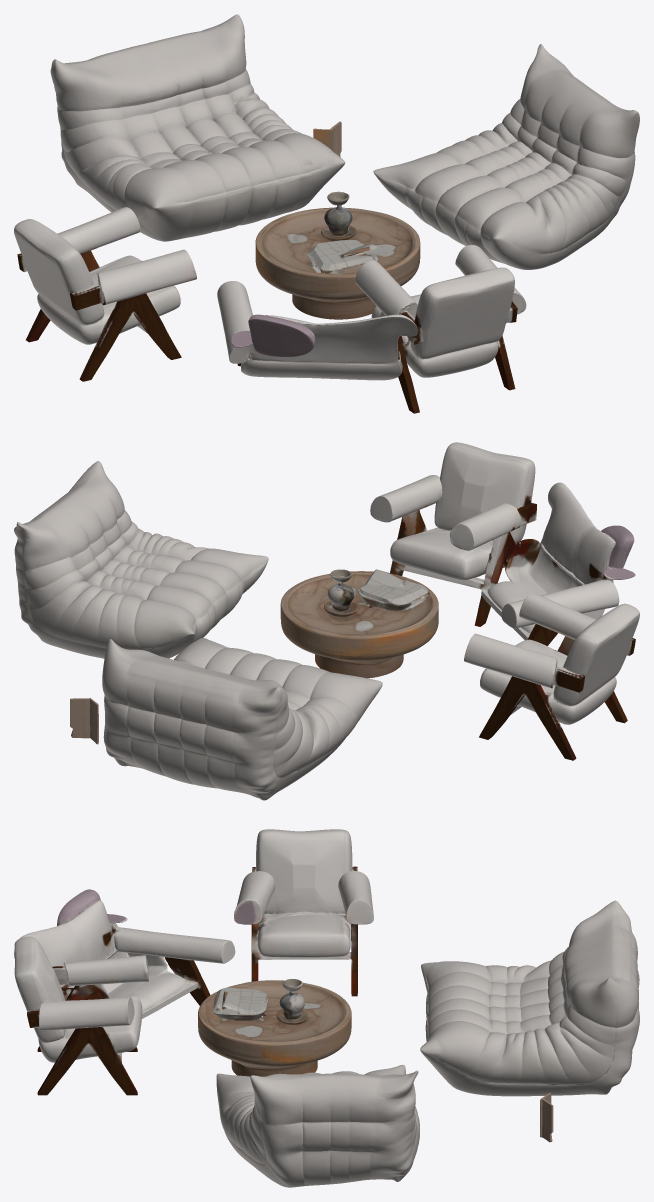
Rendered from makranaMarble.glb.
The picture shows the model from 3 angles, top to bottom: view 1: azimuth 30°, elevation 25°; view 2: azimuth 150°, elevation 25°; view 3: azimuth 270°, elevation 25°; orthographic projection. The views are drawn at different scales.
Visible parts, largest first — view 1: tripo_node_2cc41b71-63ca-4fe3-bc7d-5c8464eba4a7; view 2: tripo_node_2cc41b71-63ca-4fe3-bc7d-5c8464eba4a7; view 3: tripo_node_2cc41b71-63ca-4fe3-bc7d-5c8464eba4a7.
Boxes of the visible parts, box(x1,y1,x2,y2) form: tripo_node_2cc41b71-63ca-4fe3-bc7d-5c8464eba4a7: box(14, 14, 639, 413); tripo_node_2cc41b71-63ca-4fe3-bc7d-5c8464eba4a7: box(14, 442, 639, 800); tripo_node_2cc41b71-63ca-4fe3-bc7d-5c8464eba4a7: box(14, 829, 639, 1187).
Bounding box in the file's own units: 0.9993 × 0.2352 × 1.
1 material, 1 textured.
